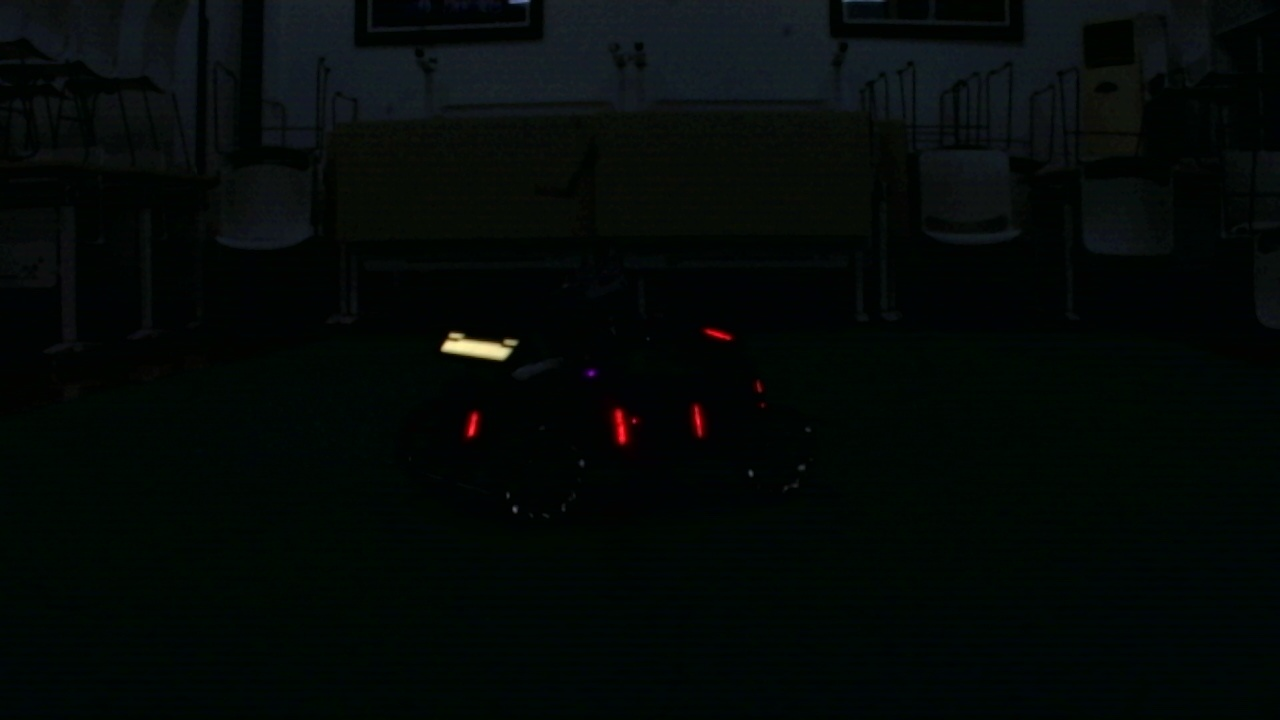lamp: (611, 407, 633, 448), (689, 404, 707, 438), (469, 406, 477, 442)
pair1: (614, 408, 706, 442)
